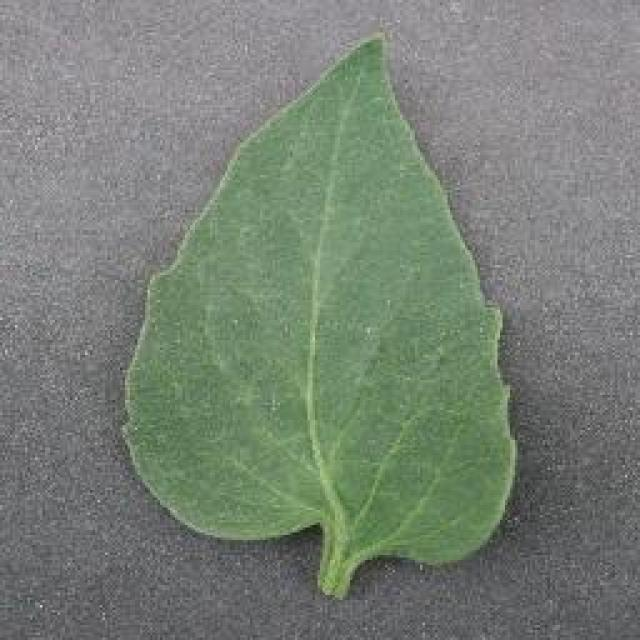Healthy: (110, 27, 532, 615)
